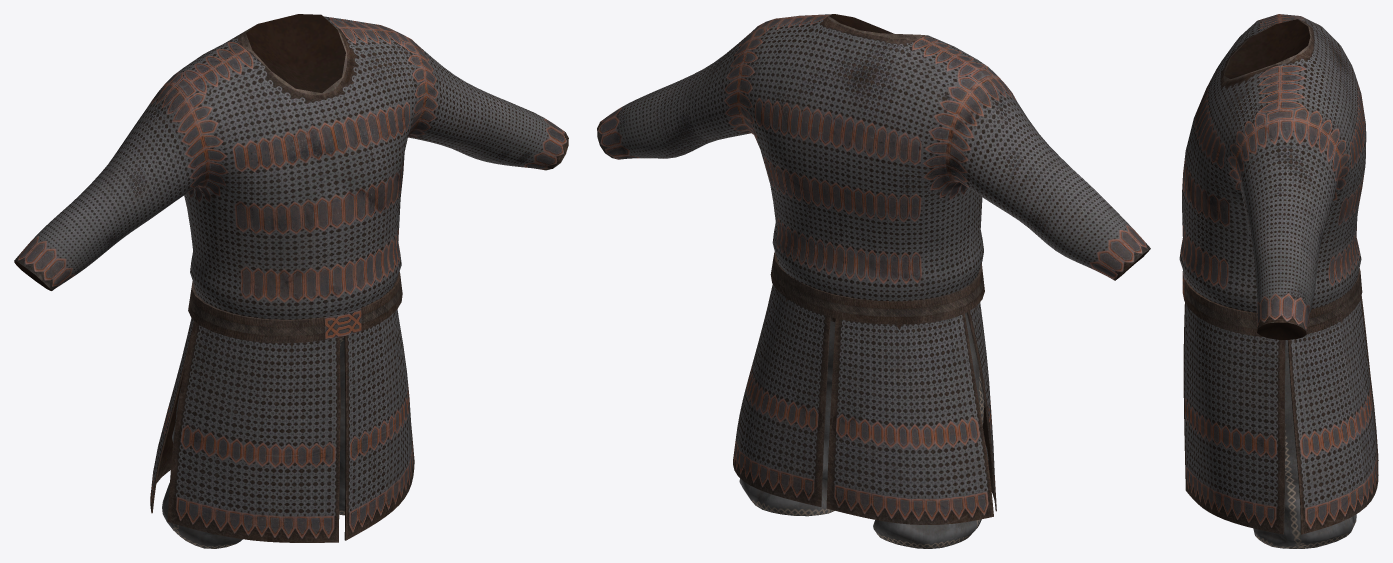
File: sk_dwarf_iron_chest_chain_a.fbx
3 views of the same model, side by side, from view 1: azimuth 30°, elevation 25°; view 2: azimuth 150°, elevation 25°; view 3: azimuth 270°, elevation 25° (orthographic). The views are drawn at different scales.
Parts seen in each view (by area): view 1: sk_dwarf_iron_chest_chain_a.0, sk_dwarf_iron_chest_chain_a.1; view 2: sk_dwarf_iron_chest_chain_a.0, sk_dwarf_iron_chest_chain_a.1; view 3: sk_dwarf_iron_chest_chain_a.0, sk_dwarf_iron_chest_chain_a.1.
Boxes of the visible parts, x1,y1,x2,y2 form: sk_dwarf_iron_chest_chain_a.0: (14,14,568,542); sk_dwarf_iron_chest_chain_a.1: (162,338,345,548); sk_dwarf_iron_chest_chain_a.0: (597,14,1150,524); sk_dwarf_iron_chest_chain_a.1: (739,313,988,548); sk_dwarf_iron_chest_chain_a.0: (1179,14,1378,534); sk_dwarf_iron_chest_chain_a.1: (1253,340,1356,548).
Bounding box in the file's own units: 1.17 × 0.3886 × 1.01.
Materials: 2 (2 with a texture image).
